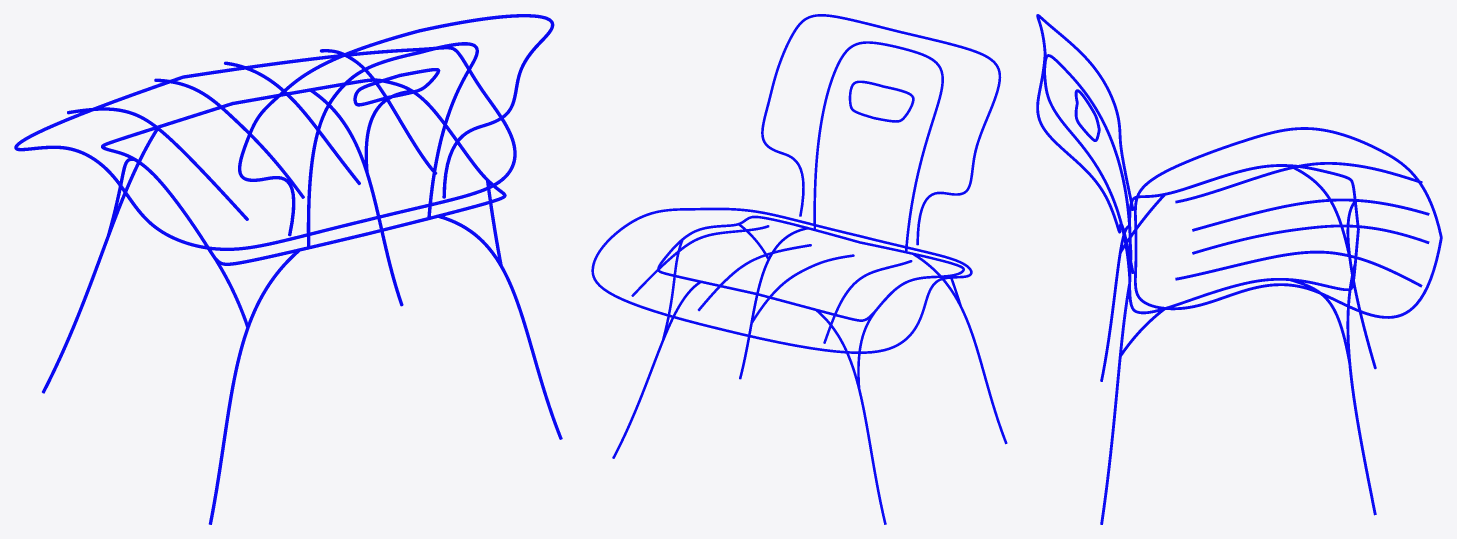
Rendered from author1_chair.glb.
3 views of the same model, side by side, from view 1: azimuth 30°, elevation 25°; view 2: azimuth 150°, elevation 25°; view 3: azimuth 270°, elevation 25° (orthographic). The views are drawn at different scales.
Visible parts, largest first — view 1: author1_chair; view 2: author1_chair; view 3: author1_chair.
Part boxes in pixels (<box>): author1_chair: <box>14,14,562,524</box>; author1_chair: <box>591,14,1007,524</box>; author1_chair: <box>1036,14,1442,524</box>.
Size of the model in its own units: 0.5633 by 0.6135 by 0.5643.
